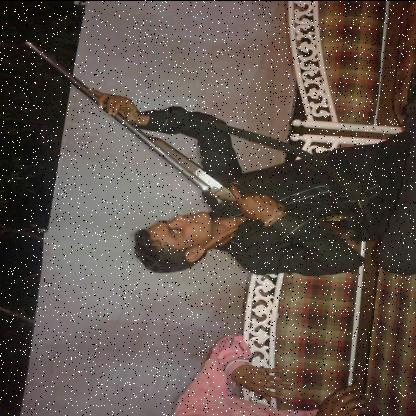rifle: (23, 38, 362, 256)
